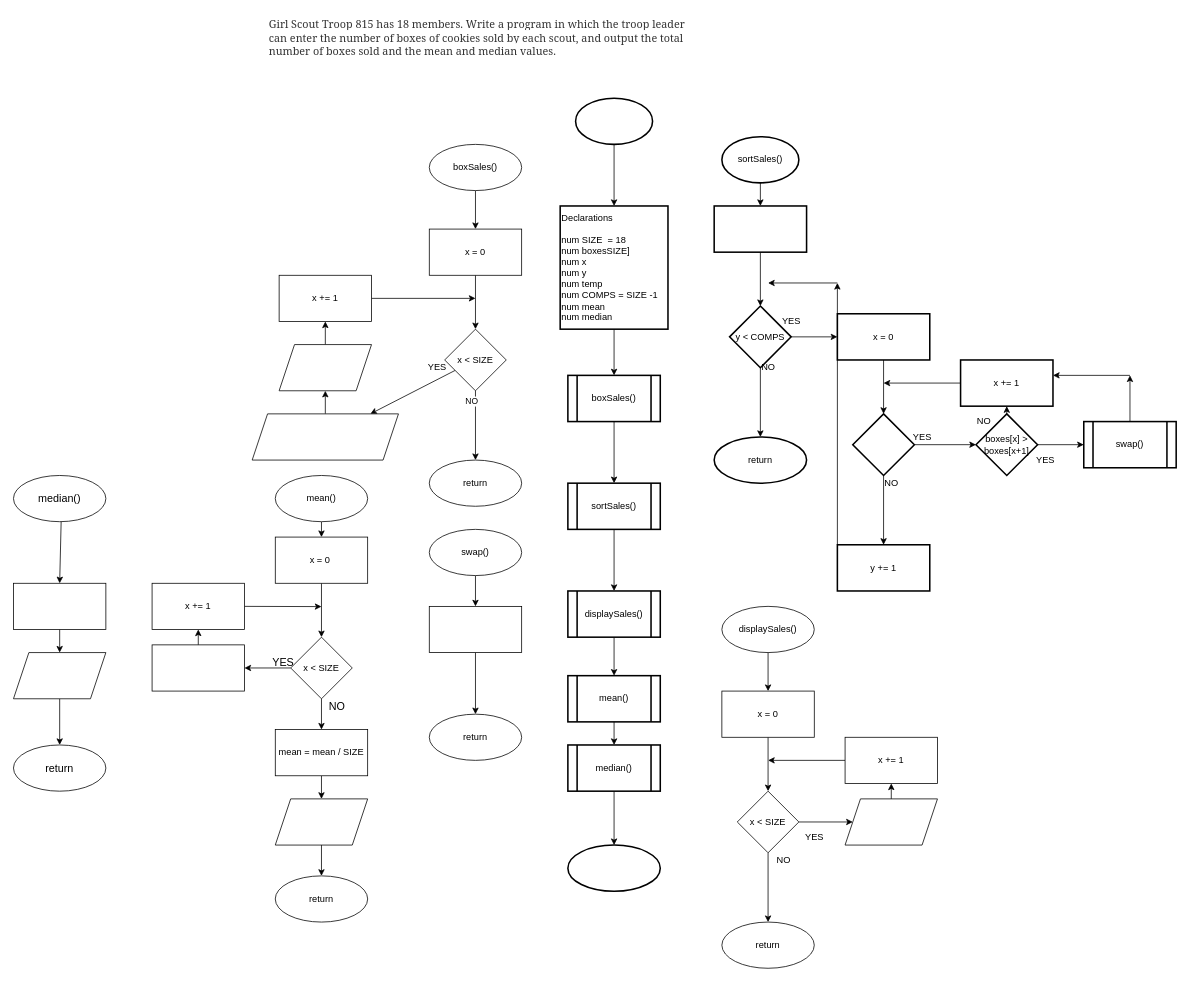
This 1190x982 diagram has some shape labels left out. The centre of each missing label's shape, as x and y in pixels:
input boxes[x]: pixel 325 367
mean += boxes[x]: pixel 197 667
output "Enter number of boxes sold for Girl Scout " x+1: pixel 324 436
output boxes[x]: pixel 890 821
output mean: pixel 321 821
output median: pixel 59 675
start: pixel 613 121
stop: pixel 614 868
temp = boxes[x+1] boxes[x+1] = boxes[x] boxes[x] = temp: pixel 475 629
temp = SIZE / 2 median = boxes[temp]: pixel 59 606
x < COMPS: pixel 883 444
y = 0: pixel 760 229
